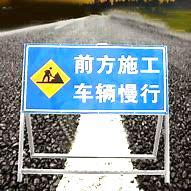sign: (24, 43, 169, 115)
